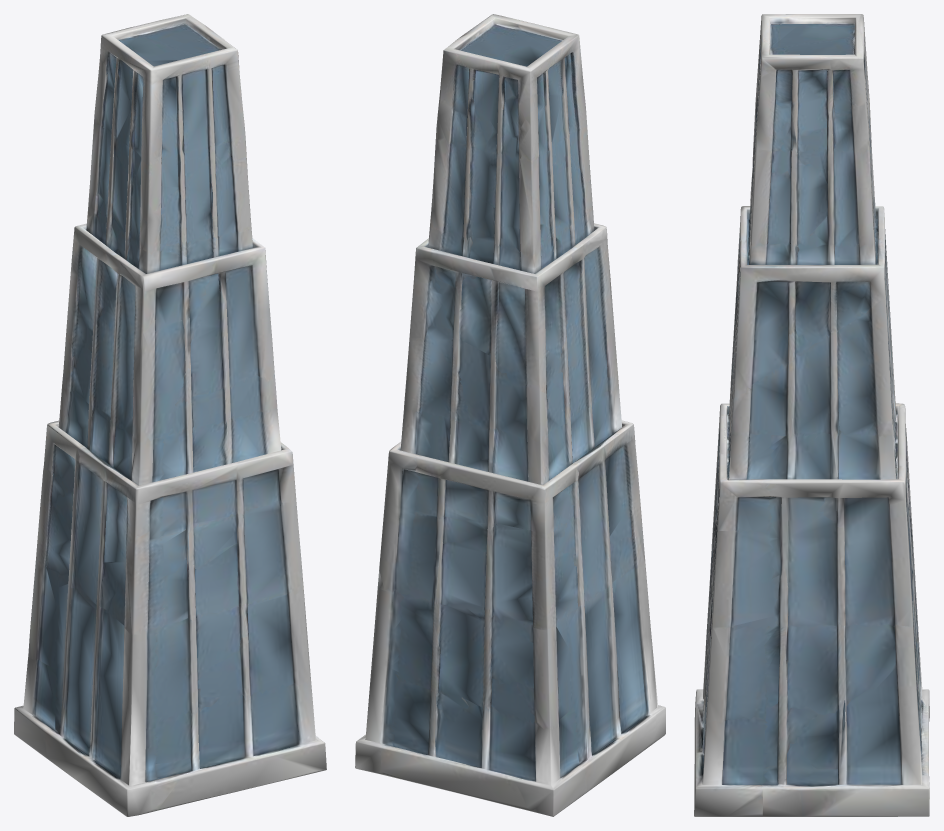
File: glassSpire.glb
The picture shows the model from 3 angles, left to right: view 1: azimuth 30°, elevation 25°; view 2: azimuth 150°, elevation 25°; view 3: azimuth 270°, elevation 25°; orthographic projection. The views are drawn at different scales.
Visible parts, largest first — view 1: tripo_node_4f776028-7233-44eb-81c6-a295e28fc5c5; view 2: tripo_node_4f776028-7233-44eb-81c6-a295e28fc5c5; view 3: tripo_node_4f776028-7233-44eb-81c6-a295e28fc5c5.
Boxes of the visible parts, bbox=[...] form: tripo_node_4f776028-7233-44eb-81c6-a295e28fc5c5: bbox=[14, 14, 326, 816]; tripo_node_4f776028-7233-44eb-81c6-a295e28fc5c5: bbox=[355, 14, 665, 816]; tripo_node_4f776028-7233-44eb-81c6-a295e28fc5c5: bbox=[694, 14, 929, 816].
Size of the model in its own units: 0.2936 by 1 by 0.2919.
1 material, 1 textured.
